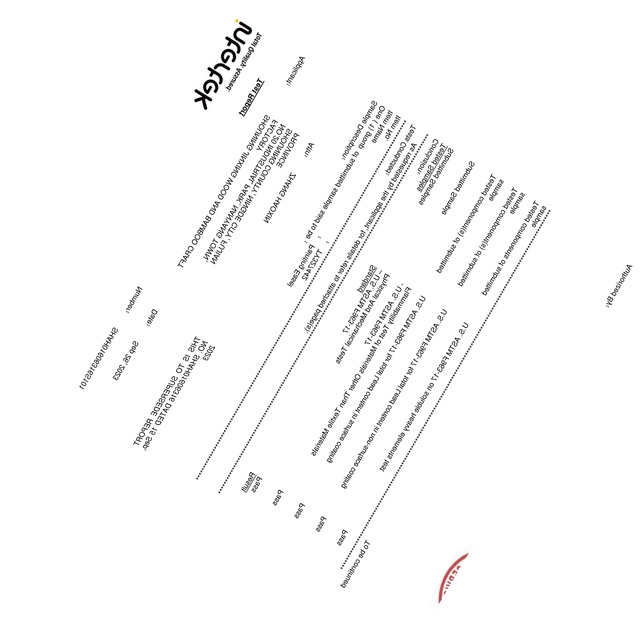intertek: (192, 17, 253, 111)
